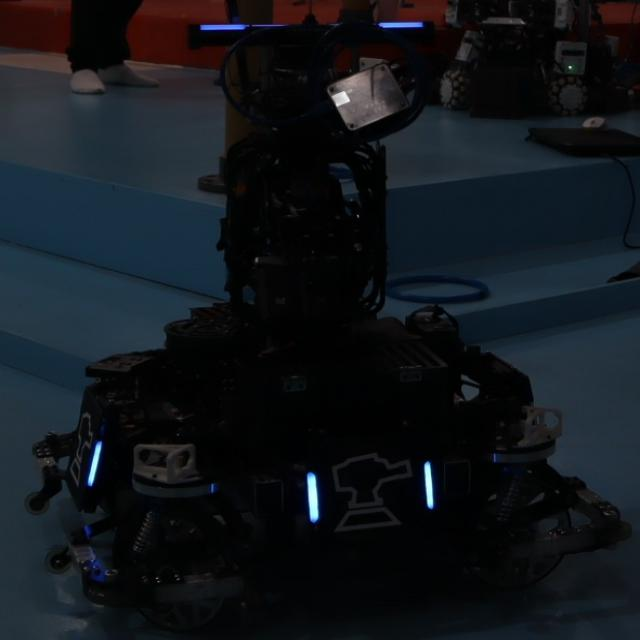Bs: (302, 450, 441, 540), (68, 408, 110, 499)
